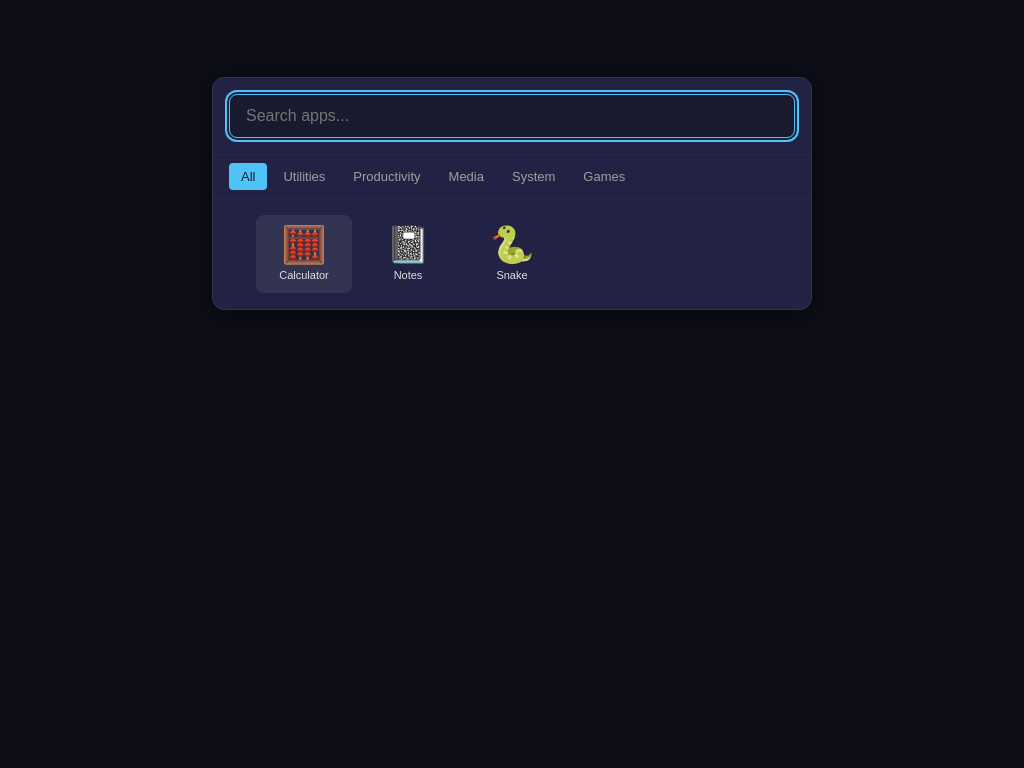
AppLauncher › shows empty state when no matches
Type "nonexistent" into the field with placeholder "Search apps...". click: (512, 116)
box: [229,94,795,138]
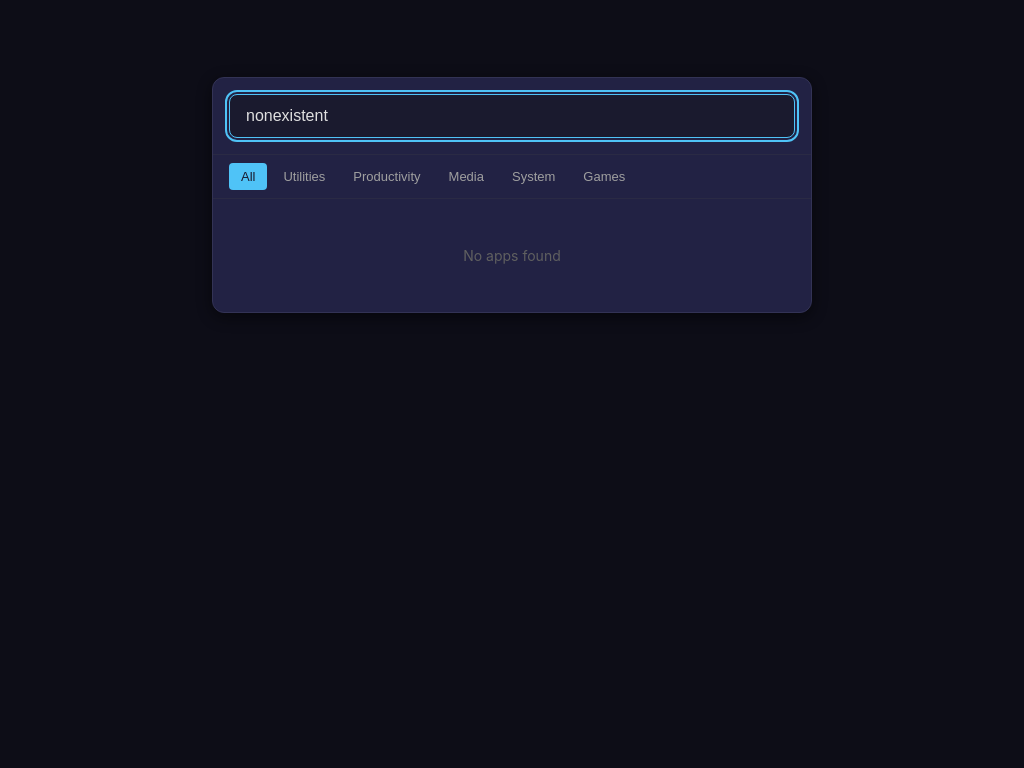
Result: the text "No apps found" is shown at [463,247,561,264]
